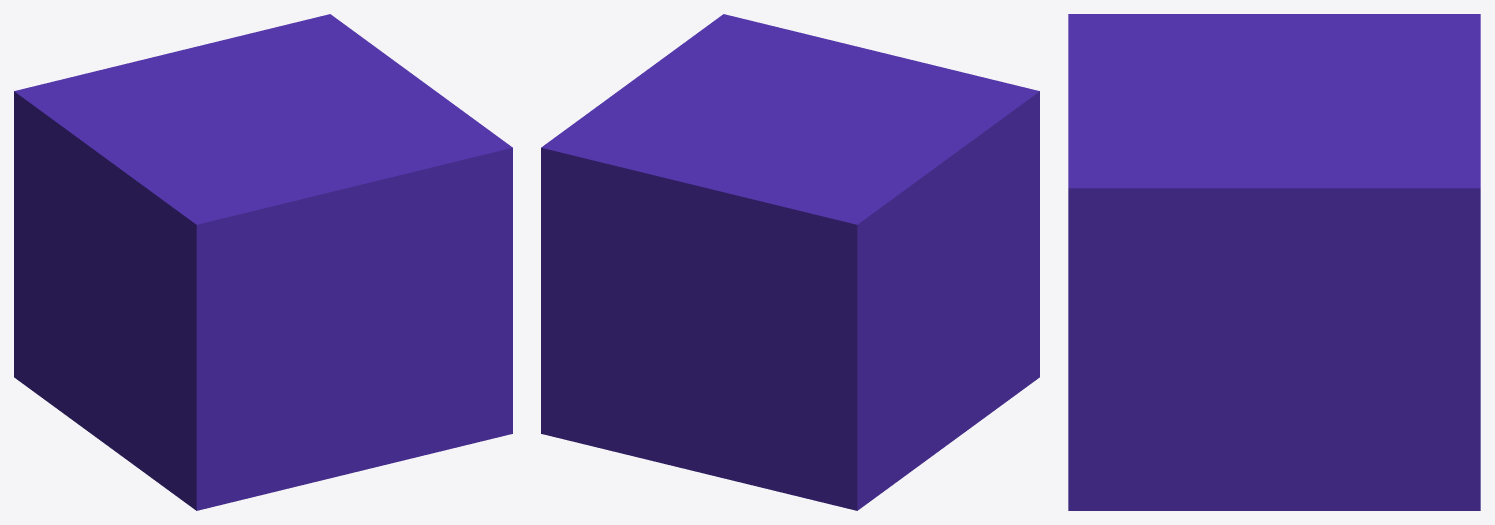
The picture shows the model from 3 angles, left to right: view 1: azimuth 30°, elevation 25°; view 2: azimuth 150°, elevation 25°; view 3: azimuth 270°, elevation 25°; orthographic projection. The views are drawn at different scales.
Visible parts, largest first — view 1: X3_sh_16, X3_sh_5, X3_sh_13, X3_sh_20, X3_sh_14, X3_sh_19, X3_sh_12, X3_sh_17, X3_sh_10, X3_sh_7, X3_sh_6, X3_sh_9; view 2: X3_sh_5, X3_sh_16, X3_sh_14, X3_sh_15, X3_sh_19, X3_sh_9, X3_sh_3, X3_sh_18, X3_sh_10, X3_sh_13, X3_sh_4, X3_sh_7 (+1 smaller); view 3: X3_sh_18, X3_sh_13, X3_sh_5, X3_sh_16, X3_sh_17, X3_sh_1, X3_sh_14.
Part boxes in pixels (x1,y1,x2,y2): X3_sh_16: [123, 119, 435, 369]; X3_sh_5: [24, 14, 415, 135]; X3_sh_13: [353, 77, 512, 355]; X3_sh_20: [205, 212, 411, 466]; X3_sh_14: [14, 89, 176, 308]; X3_sh_19: [86, 254, 227, 510]; X3_sh_12: [214, 370, 417, 506]; X3_sh_17: [395, 348, 512, 456]; X3_sh_10: [14, 255, 56, 407]; X3_sh_7: [53, 300, 133, 464]; X3_sh_6: [55, 321, 109, 447]; X3_sh_9: [14, 184, 35, 268]; X3_sh_5: [541, 84, 866, 252]; X3_sh_16: [745, 33, 1039, 232]; X3_sh_14: [839, 142, 986, 373]; X3_sh_15: [605, 260, 746, 482]; X3_sh_19: [929, 198, 1039, 422]; X3_sh_9: [737, 278, 878, 474]; X3_sh_3: [601, 227, 844, 338]; X3_sh_18: [541, 190, 619, 436]; X3_sh_10: [742, 371, 899, 510]; X3_sh_13: [627, 14, 800, 86]; X3_sh_4: [552, 395, 730, 479]; X3_sh_7: [897, 338, 976, 440]; X3_sh_18: [1271, 210, 1480, 510]; X3_sh_13: [1068, 138, 1290, 422]; X3_sh_5: [1224, 19, 1480, 235]; X3_sh_16: [1068, 14, 1284, 145]; X3_sh_17: [1068, 409, 1272, 510]; X3_sh_1: [1225, 195, 1312, 481]; X3_sh_14: [1235, 14, 1480, 55].
Size of the model in its own units: 200 by 173 by 200.
